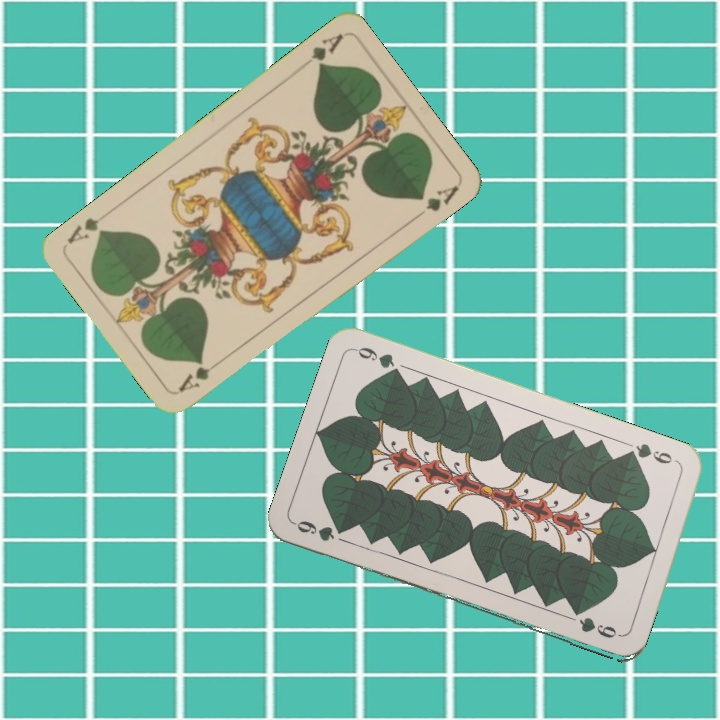G9: (290, 516, 347, 544), (622, 439, 675, 467)
GA: (174, 354, 226, 395), (306, 30, 345, 72)
